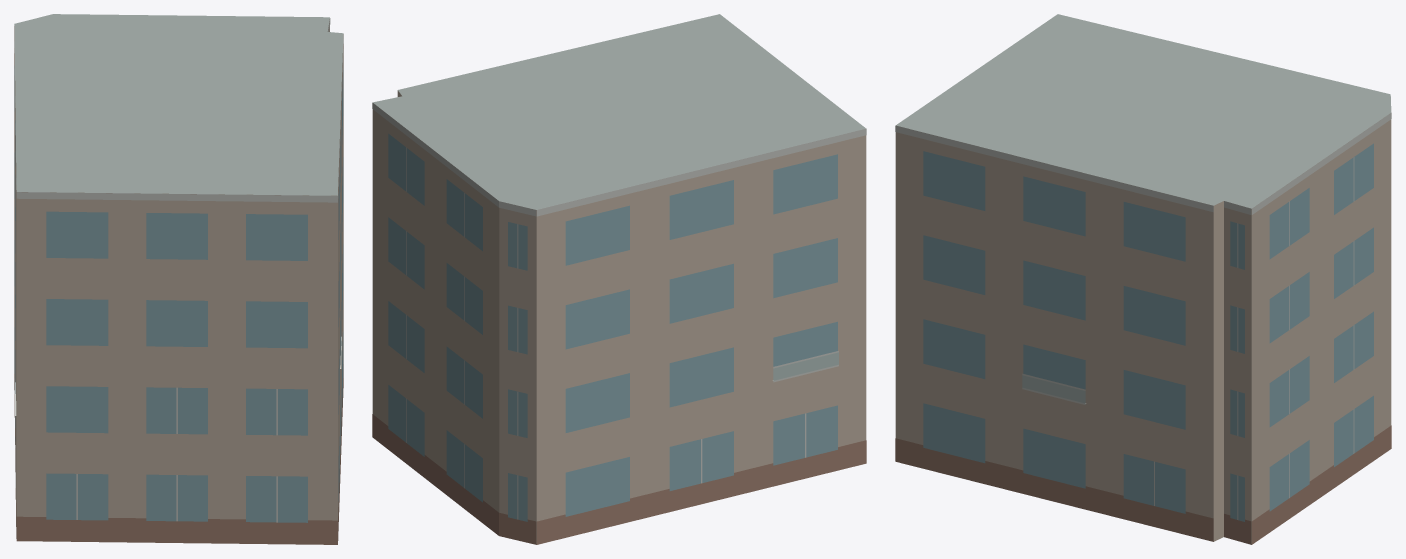
File: survey-upis-33014620.glb
The picture shows the model from 3 angles, left to right: view 1: azimuth 30°, elevation 25°; view 2: azimuth 150°, elevation 25°; view 3: azimuth 270°, elevation 25°; orthographic projection. The views are drawn at different scales.
Visible parts, largest first — view 1: survey-upis-33014620.tmp; view 2: survey-upis-33014620.tmp; view 3: survey-upis-33014620.tmp.
Part boxes in pixels (box(x1,y1,x2,y2)): survey-upis-33014620.tmp: box(14, 14, 343, 544); survey-upis-33014620.tmp: box(372, 14, 866, 544); survey-upis-33014620.tmp: box(895, 14, 1391, 544).
Bounding box in the file's own units: 15.53 × 12.5 × 16.72.
